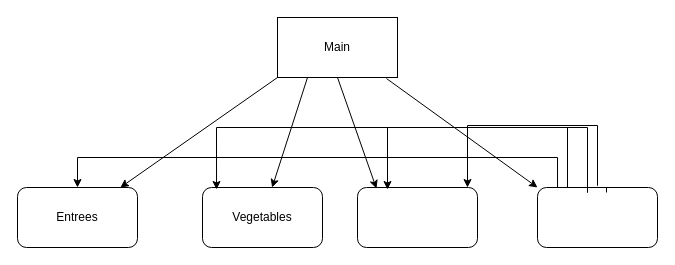
The diagram is 675 pixels wide and 265 high, and some of its shapes have lost their labels. Here are the shapes that lost their labels. From the top down, the centre of each, then its label:
At [417,217]: "Sides".
At [597,217]: "Orders".
